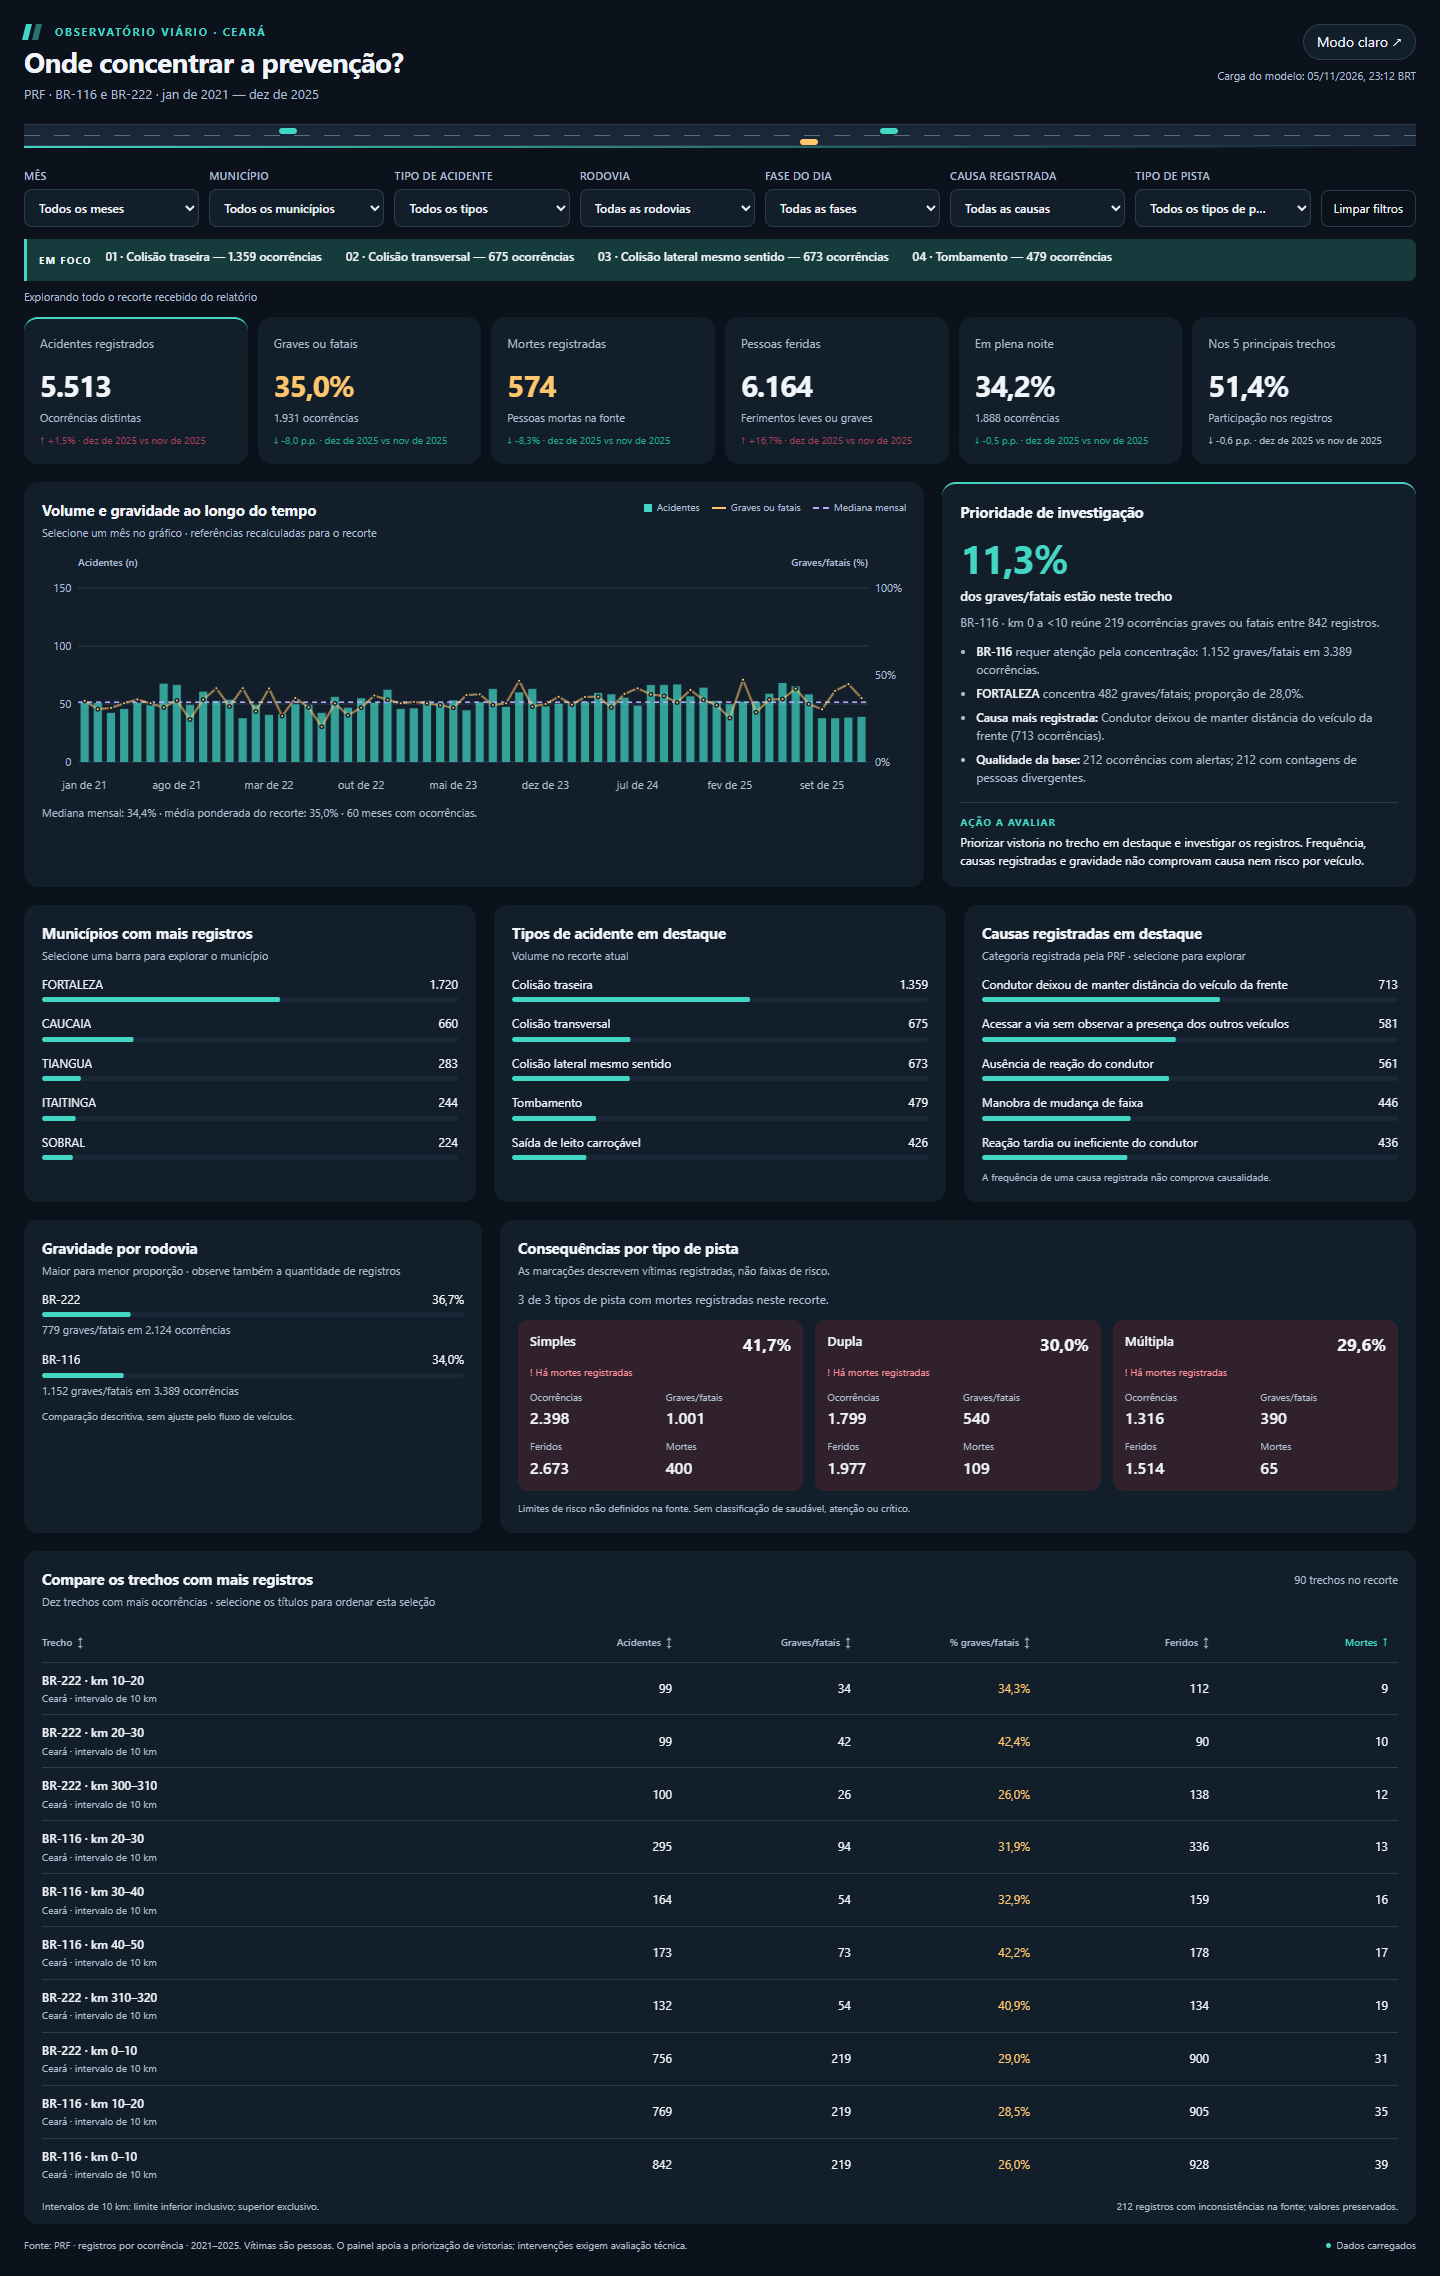

The dashboard page shown, as its layout file describes it:
{"tool":"powerbi","page":{"name":"Página 2","canvas":[1280,720],"ordinal":1},"visuals":[{"type":"htmlContent443BE3AD55E043BF878BED274D3A6855","fields":{"content":["fAcidentes.HTML Dashboard PRF"]},"box":[0,0,1279.8,720.2],"z":0}]}

Visuals, with their boxes on the page's 1280x720 design canvas (x1, y1, x2, y2). These are canvas units, not pixel positions in the 1440x2276 screenshot, which may show the page scaled, cropped or inside an application window:
htmlContent443BE3AD55E043BF878BED274D3A6855 - fAcidentes.HTML Dashboard PRF: Rect(0, 0, 1280, 720)
